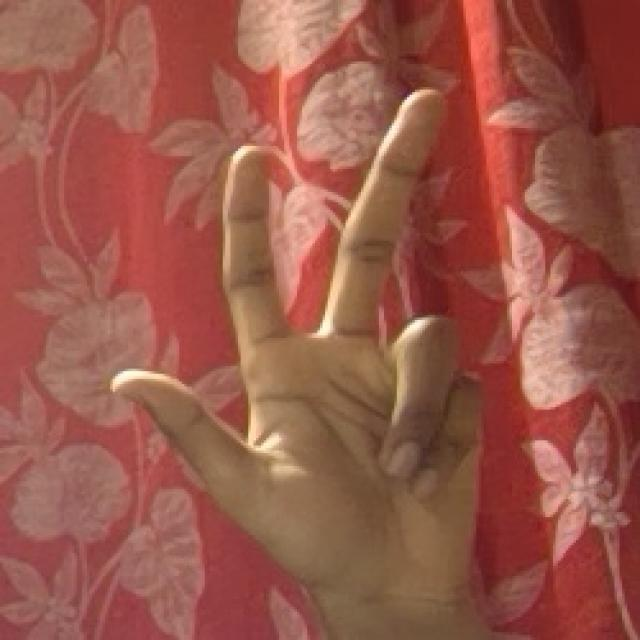Numeric-3: (113, 87, 487, 616)
